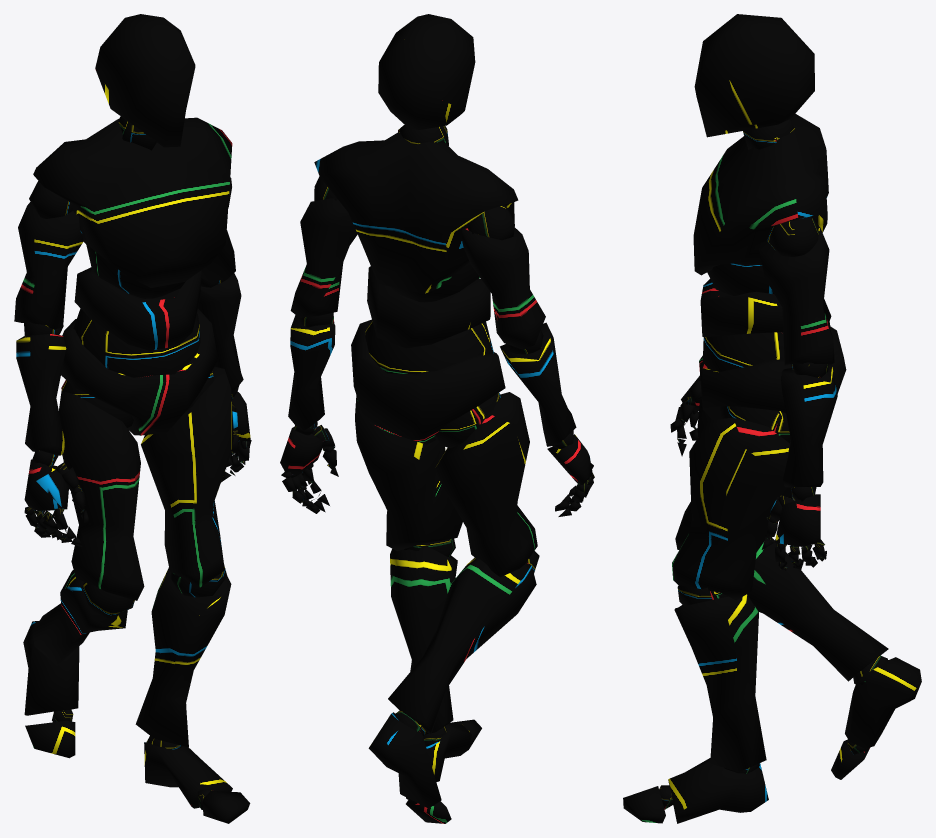
File: y-bot-origin_000026.obj
3 renders of one model, left to right at view 1: azimuth 30°, elevation 25°; view 2: azimuth 150°, elevation 25°; view 3: azimuth 270°, elevation 25°, orthographic. The views are drawn at different scales.
Parts seen in each view (by area): view 1: Alpha_Surface_Alpha_SurfaceMesh, Alpha_Joints_Alpha_JointsMesh; view 2: Alpha_Surface_Alpha_SurfaceMesh, Alpha_Joints_Alpha_JointsMesh; view 3: Alpha_Surface_Alpha_SurfaceMesh, Alpha_Joints_Alpha_JointsMesh.
Boxes of the visible parts, bbox=[...] form: Alpha_Surface_Alpha_SurfaceMesh: bbox=[14, 14, 250, 823]; Alpha_Joints_Alpha_JointsMesh: bbox=[24, 116, 251, 809]; Alpha_Surface_Alpha_SurfaceMesh: bbox=[280, 14, 593, 823]; Alpha_Joints_Alpha_JointsMesh: bbox=[281, 124, 594, 803]; Alpha_Surface_Alpha_SurfaceMesh: bbox=[623, 14, 921, 823]; Alpha_Joints_Alpha_JointsMesh: bbox=[659, 119, 888, 809].
Bounding box in the file's own units: 0.6326 × 1.78 × 0.6139.
